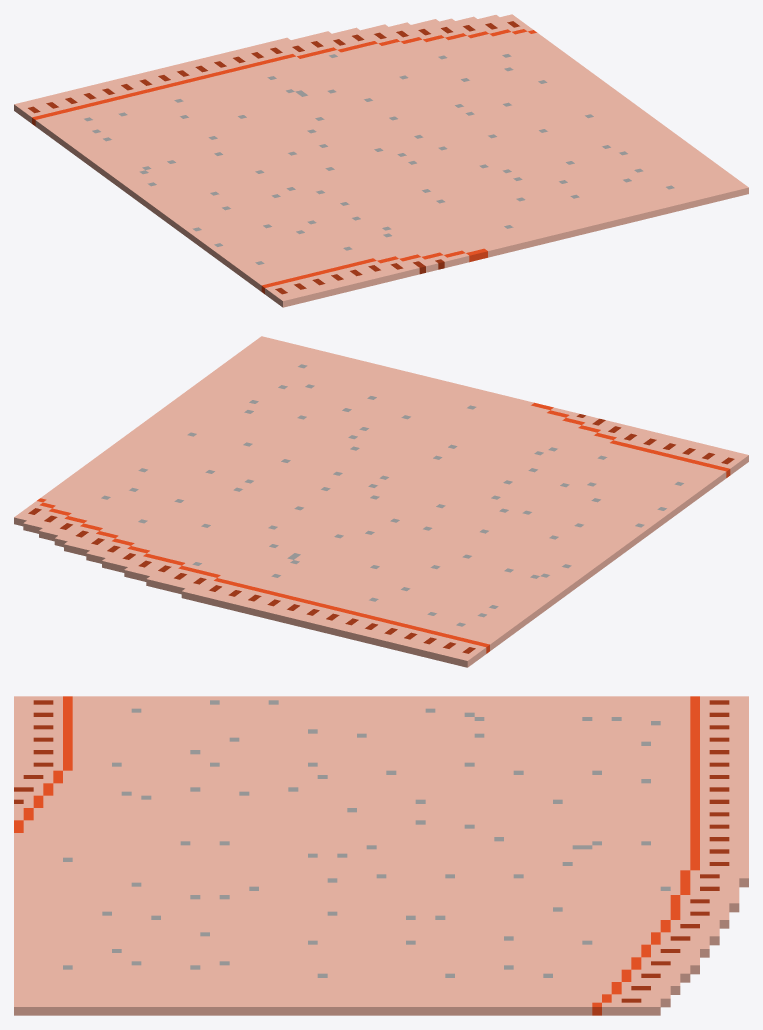
The model's file is 90_Large-0.obj.
3 renders of one model, top to bottom at view 1: azimuth 30°, elevation 25°; view 2: azimuth 150°, elevation 25°; view 3: azimuth 270°, elevation 25°, orthographic. The views are drawn at different scales.
Parts seen in each view (by area): view 1: 90_Large-0; view 2: 90_Large-0; view 3: 90_Large-0.
Boxes of the visible parts, box(x1,y1,x2,y2) form: 90_Large-0: box(14, 14, 748, 307); 90_Large-0: box(14, 336, 748, 667); 90_Large-0: box(14, 696, 748, 1015).
Size of the model in its own units: 75 by 1 by 75.
1 material, 1 textured.
